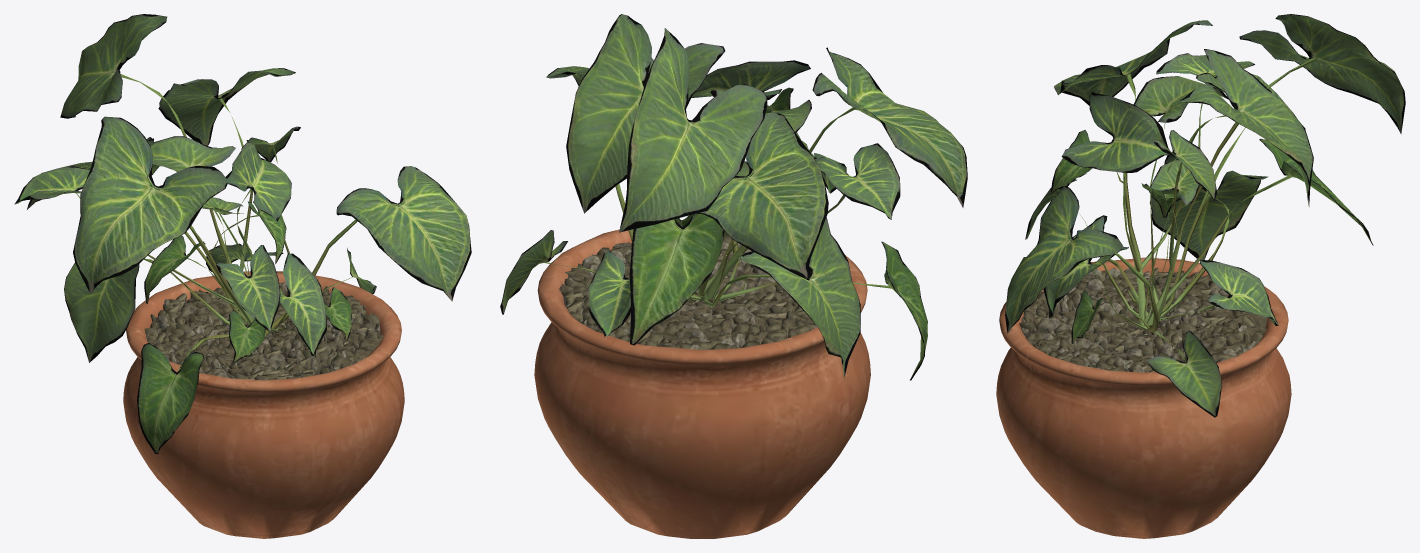
File: potted_plant_02.glb
The picture shows the model from 3 angles, left to right: view 1: azimuth 30°, elevation 25°; view 2: azimuth 150°, elevation 25°; view 3: azimuth 270°, elevation 25°; orthographic projection. The views are drawn at different scales.
Parts seen in each view (by area): view 1: potted_plant_02_leaves, potted_plant_02_pot, potted_plant_02_dirt; view 2: potted_plant_02_leaves, potted_plant_02_pot, potted_plant_02_dirt; view 3: potted_plant_02_leaves, potted_plant_02_pot, potted_plant_02_dirt.
Boxes of the visible parts, x1,y1,x2,y2 form: potted_plant_02_leaves: (14,14,471,453); potted_plant_02_pot: (123,271,404,538); potted_plant_02_dirt: (144,282,383,380); potted_plant_02_leaves: (500,14,967,380); potted_plant_02_pot: (534,220,870,538); potted_plant_02_dirt: (559,233,816,349); potted_plant_02_leaves: (1005,14,1405,417); potted_plant_02_pot: (996,257,1291,538); potted_plant_02_dirt: (1019,267,1266,372).
Bounding box in the file's own units: 0.7009 × 0.8401 × 0.6574.
Materials: 2 (2 with a texture image).
